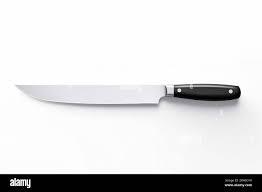Knife: (14, 82, 241, 105)
